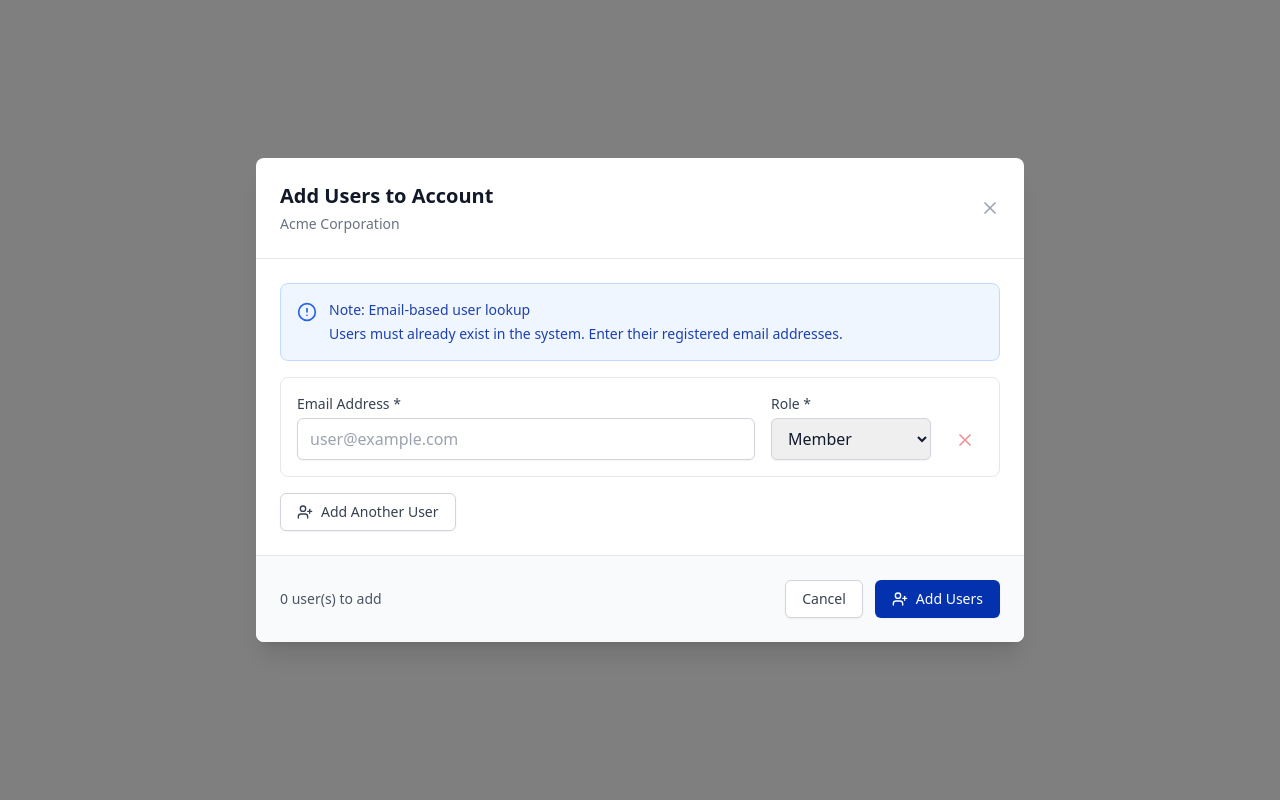
Test: BulkAddUsersModal › should add another user row when add button clicked
Step 1. Click the button "Add Another User" → coordinates (368, 512), box [280,493,456,531]
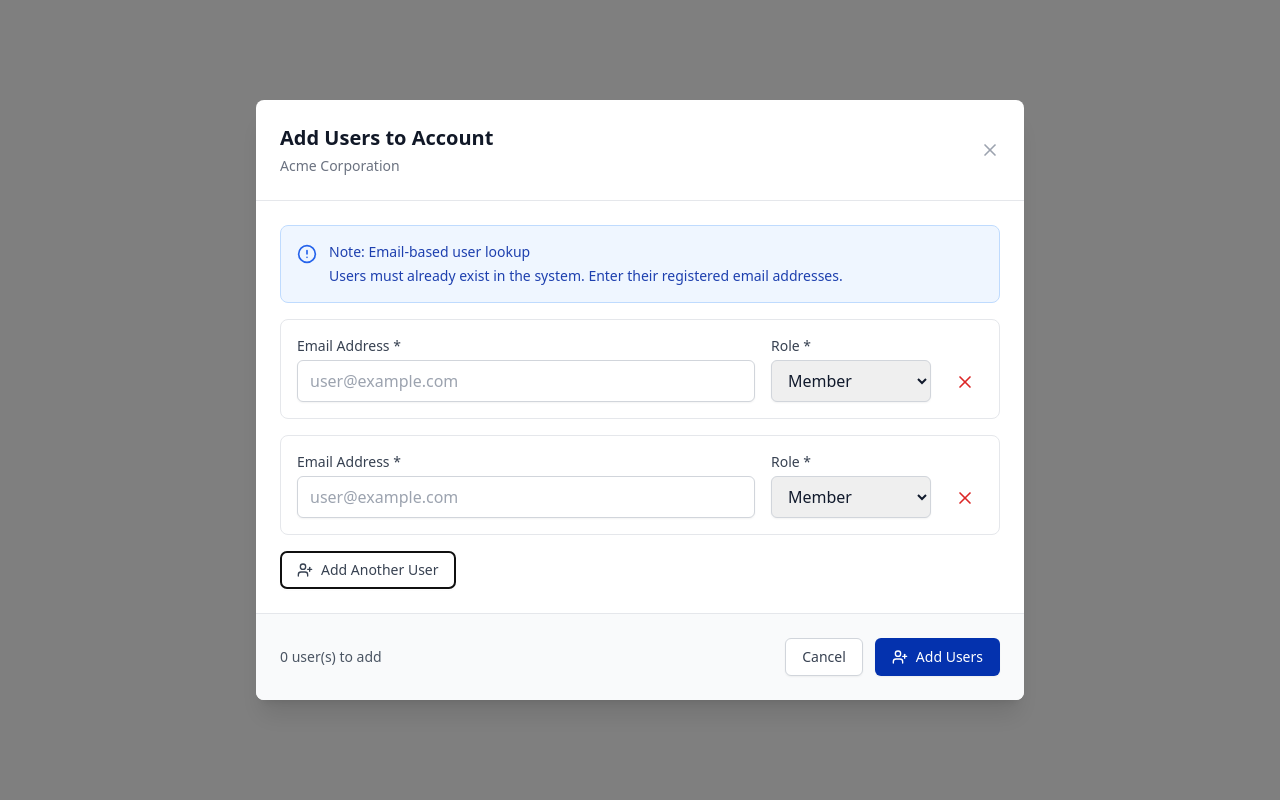
Expected: the number of fields with placeholder "user@example.com" is 2, [297,360,755,402]; [297,476,755,518]
